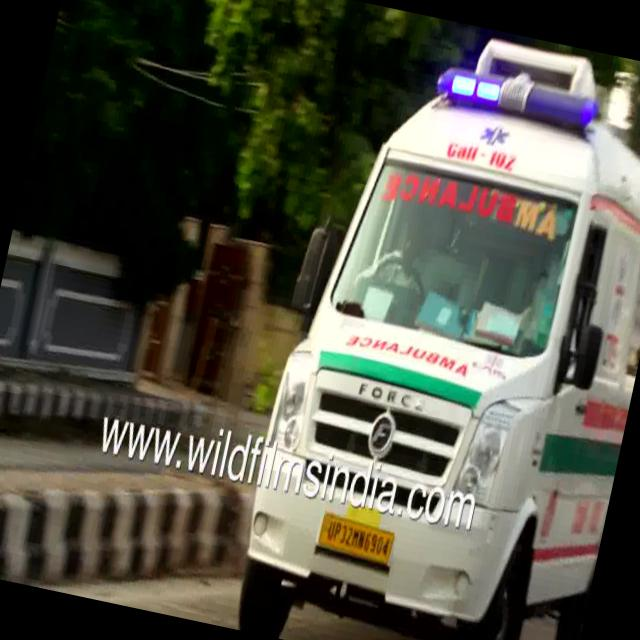ambulance: (261, 0, 640, 511)
